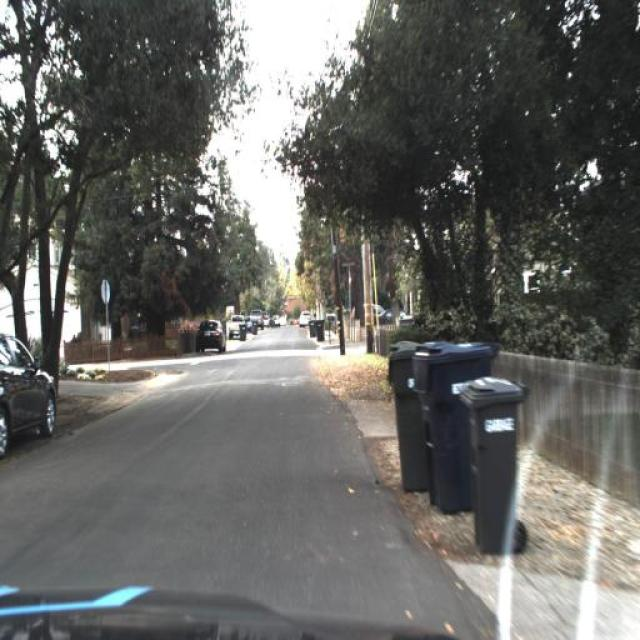car: (0, 334, 56, 466), (193, 316, 232, 356), (192, 317, 226, 352), (350, 299, 386, 321), (378, 307, 410, 322), (228, 314, 246, 338), (248, 308, 264, 328), (298, 308, 312, 328)
